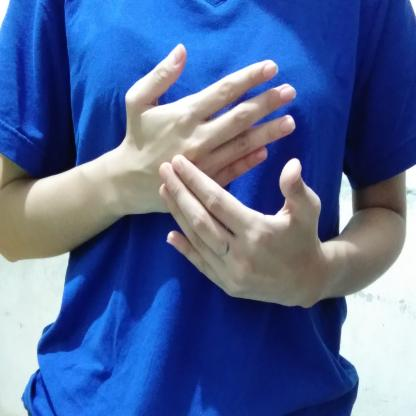thank you: (115, 38, 335, 318)
